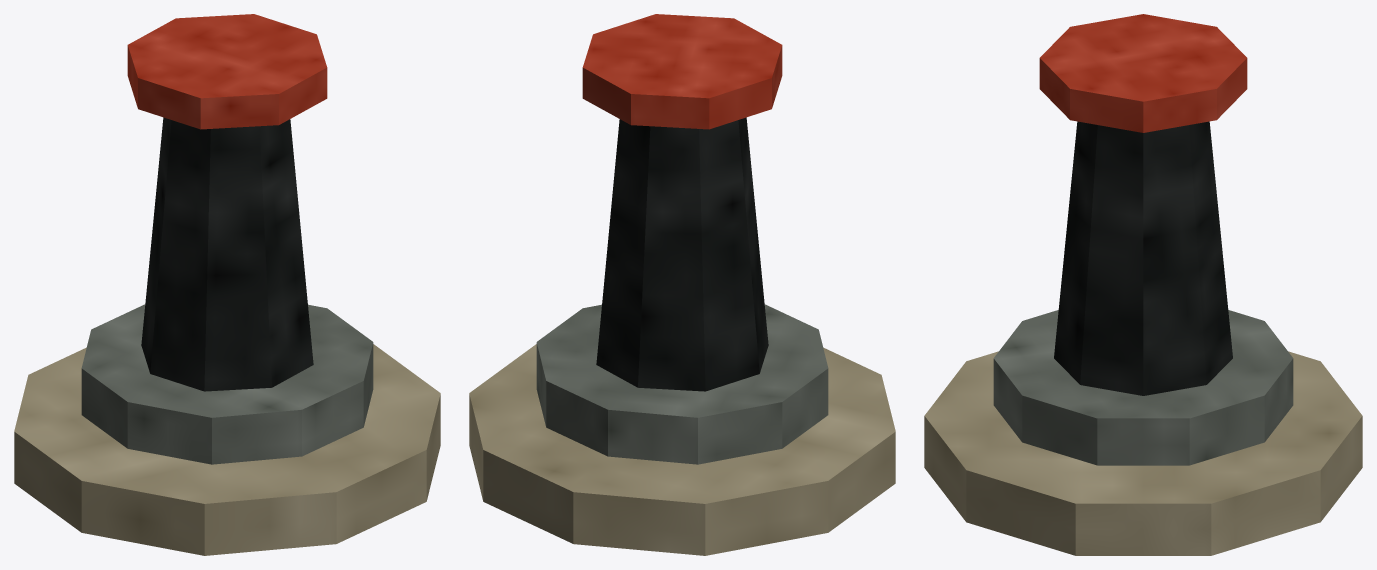
The model's file is DR_Antenna.fbx.
3 views of the same model, side by side, from view 1: azimuth 30°, elevation 25°; view 2: azimuth 150°, elevation 25°; view 3: azimuth 270°, elevation 25° (orthographic).
Parts seen in each view (by area): view 1: AntennaBase, AntennaWhip, AntennaFerrule, AntennaTip; view 2: AntennaBase, AntennaWhip, AntennaFerrule, AntennaTip; view 3: AntennaBase, AntennaWhip, AntennaFerrule, AntennaTip.
Boxes of the visible parts, <box> form: AntennaBase: <box>14,344,440,555</box>; AntennaWhip: <box>141,117,313,391</box>; AntennaFerrule: <box>81,304,373,464</box>; AntennaTip: <box>127,14,327,129</box>; AntennaBase: <box>469,344,895,555</box>; AntennaWhip: <box>596,117,768,391</box>; AntennaFerrule: <box>536,304,828,464</box>; AntennaTip: <box>582,14,782,129</box>; AntennaBase: <box>924,351,1362,555</box>; AntennaWhip: <box>1054,121,1232,395</box>; AntennaFerrule: <box>993,310,1293,465</box>; AntennaTip: <box>1039,14,1247,132</box>.
Size of the model in its own units: 1.45 by 1.57 by 1.52.
1 material, 1 textured.
